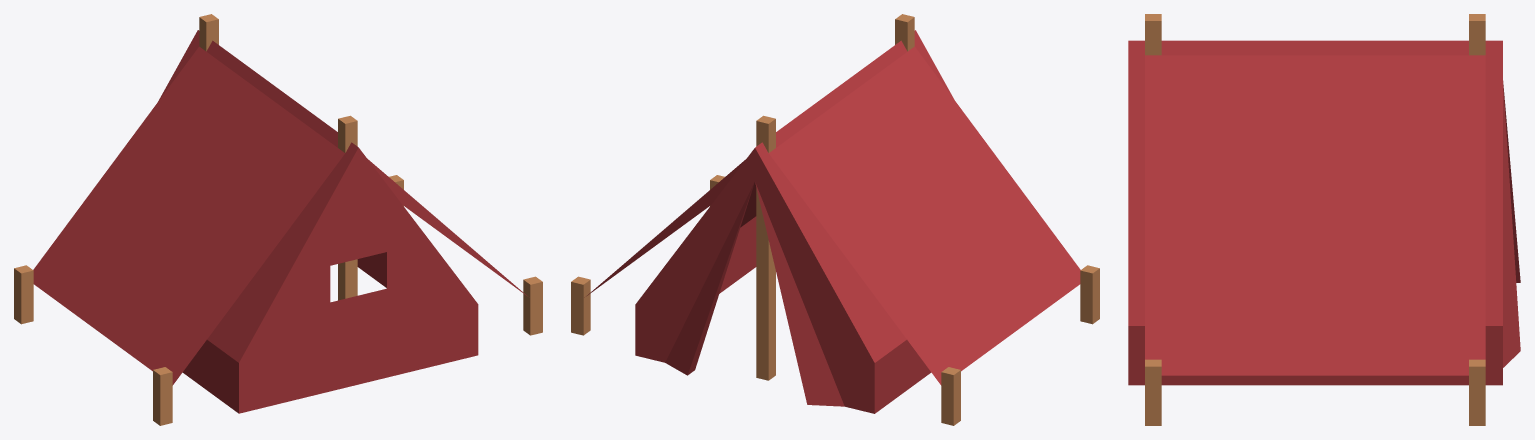
The model's file is tent_detailedOpen.obj.
3 views of the same model, side by side, from view 1: azimuth 30°, elevation 25°; view 2: azimuth 150°, elevation 25°; view 3: azimuth 270°, elevation 25° (orthographic). The views are drawn at different scales.
Parts seen in each view (by area): view 1: tent_detailedOpen; view 2: tent_detailedOpen; view 3: tent_detailedOpen.
Part boxes in pixels (box(x1,y1,x2,y2)): tent_detailedOpen: box(14, 14, 542, 425); tent_detailedOpen: box(571, 14, 1099, 425); tent_detailedOpen: box(1128, 14, 1520, 425).
Bounding box in the file's own units: 8.75 × 5.61 × 6.66.
